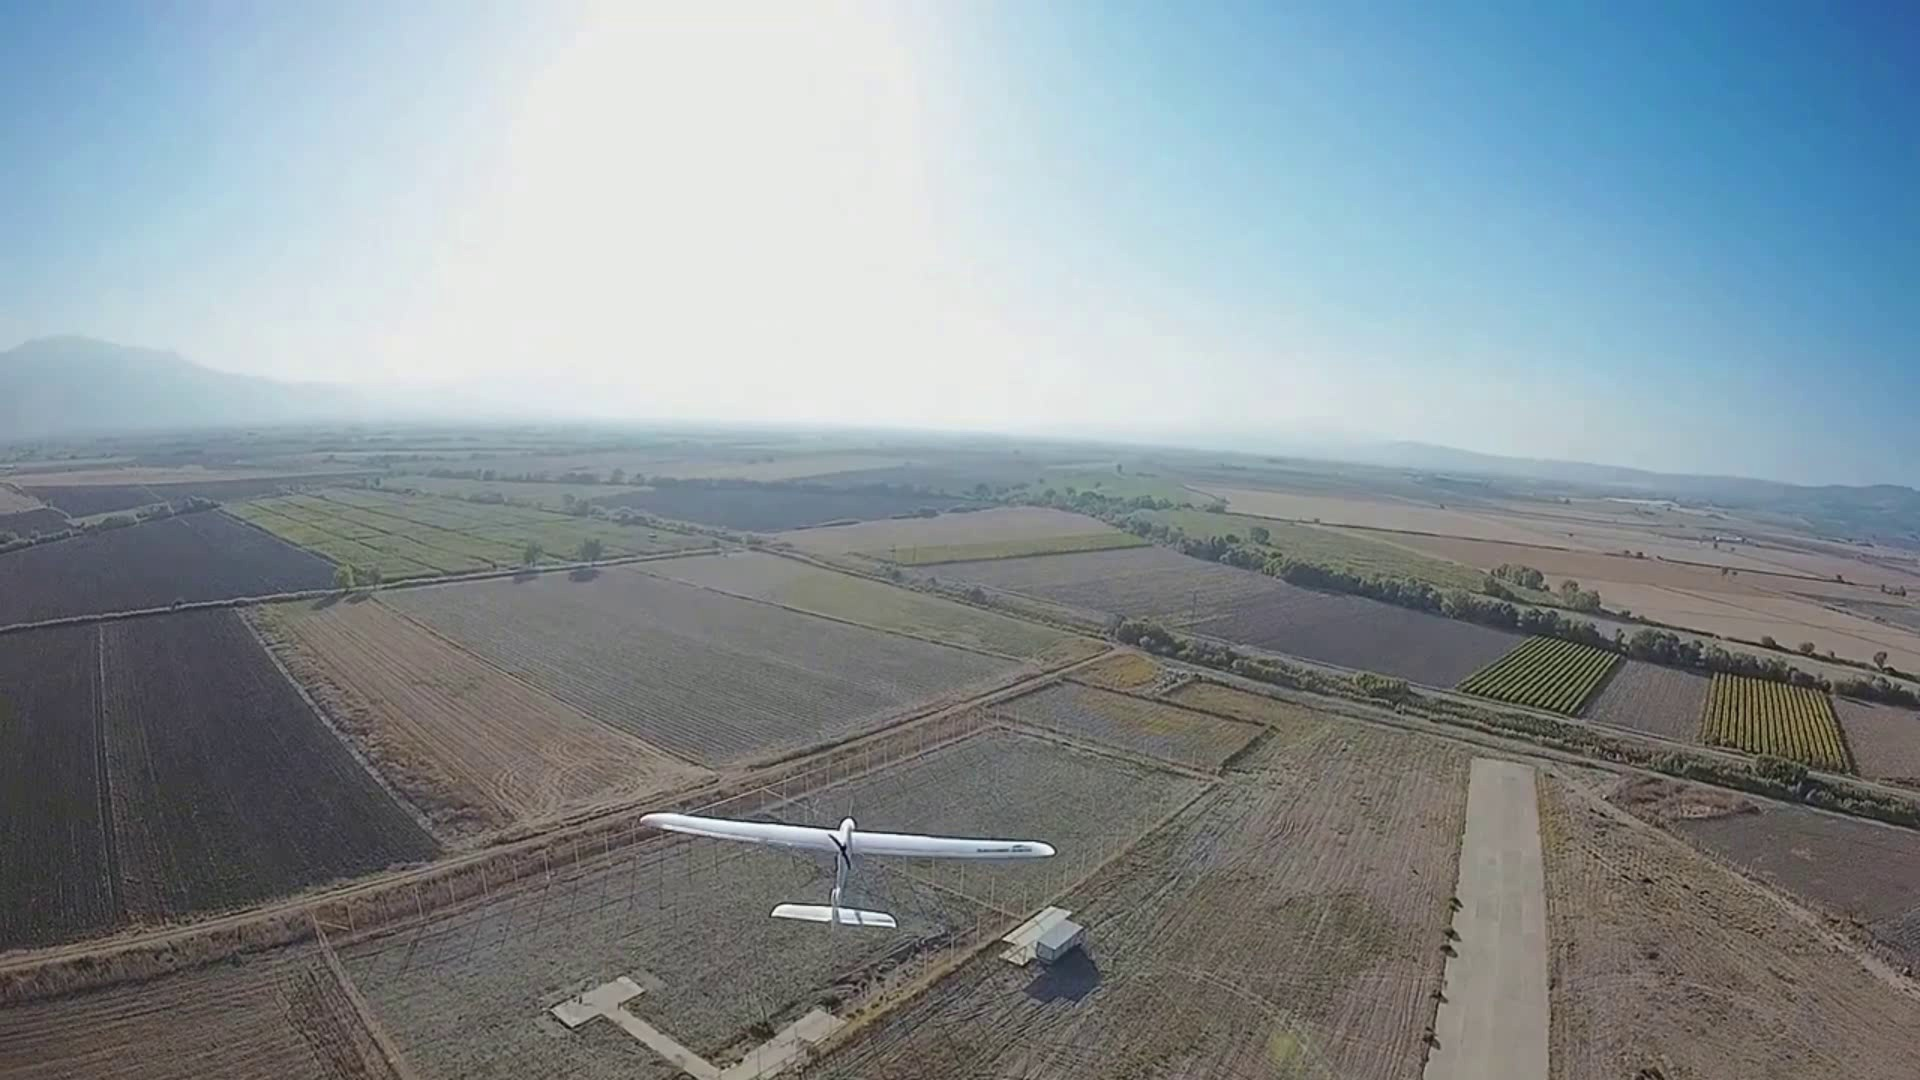airplane: (637, 808, 1055, 929)
